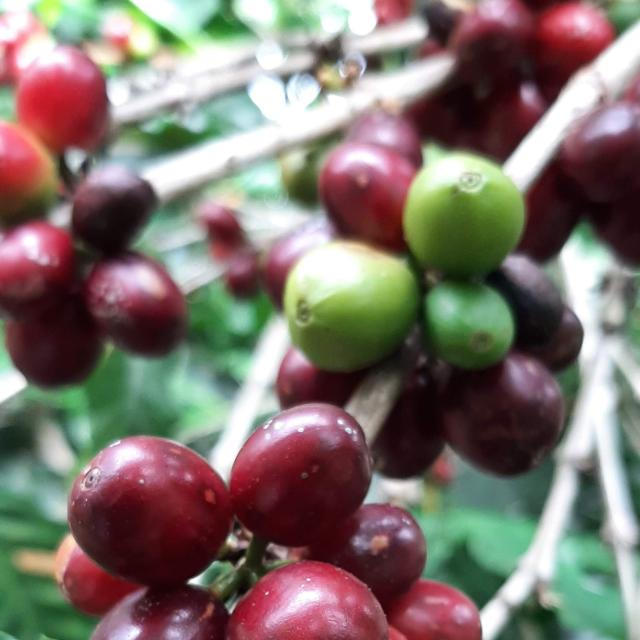green: (284, 241, 421, 372), (403, 154, 526, 276), (425, 279, 516, 370)
red: (67, 437, 233, 588), (229, 404, 372, 547), (442, 352, 565, 477), (318, 109, 422, 250), (225, 562, 389, 640), (308, 505, 427, 605), (487, 253, 585, 371), (84, 252, 188, 357), (319, 141, 416, 251), (15, 45, 109, 153), (4, 295, 102, 388), (559, 100, 640, 202), (372, 367, 445, 479), (71, 166, 158, 253), (89, 586, 228, 640), (0, 221, 75, 321), (57, 546, 138, 618), (275, 346, 366, 409), (387, 580, 482, 640), (526, 305, 585, 372)
yellow: (0, 120, 58, 225)
